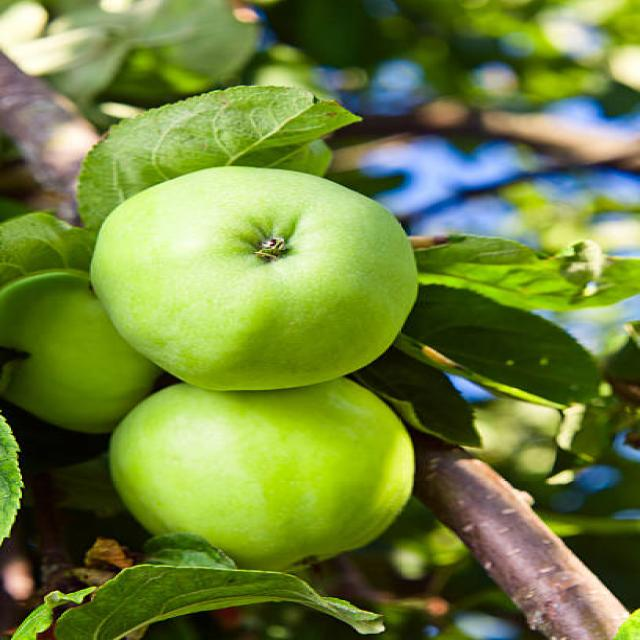Unripe: (91, 166, 418, 393), (110, 372, 412, 578)
